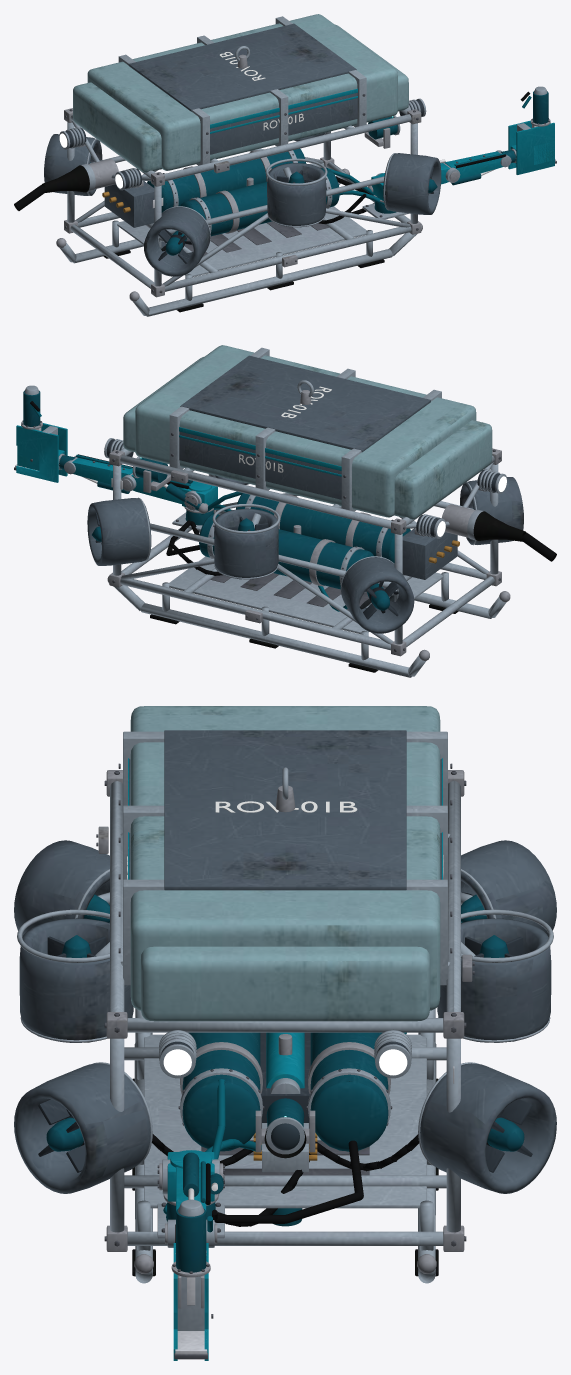
Rendered from rov01b_cutter_lod1.glb.
3 views of the same model, one above another, from view 1: azimuth 30°, elevation 25°; view 2: azimuth 150°, elevation 25°; view 3: azimuth 270°, elevation 25° (orthographic). The views are drawn at different scales.
Visible parts, largest first — view 1: cutter_frame__foam, cutter_frame__slate_lt, cutter_frame__alu, cutter_thrusters__slate_lt, cutter_frame__alu.001, cutter_frame__cyan_dk, cutter_shear_head__cyan, cutter_detail__slate_lt, cutter_frame__steel_dk, cutter_frame__steel, cutter_frame__cyan, cutter_tether__rubber (+12 smaller); view 2: cutter_frame__foam, cutter_frame__slate_lt, cutter_frame__alu, cutter_thrusters__slate_lt, cutter_frame__alu.001, cutter_frame__cyan_dk, cutter_shear_head__cyan, cutter_detail__slate_lt, cutter_frame__steel_dk, cutter_frame__steel, cutter_frame__cyan, cutter_tether__rubber (+14 smaller); view 3: cutter_frame__foam, cutter_thrusters__slate_lt, cutter_frame__slate_lt, cutter_frame__alu, cutter_frame__alu.001, cutter_frame__cyan_dk, cutter_thrusters__cyan_dk, cutter_frame__steel, cutter_thrusters__slate, cutter_detail__alu.001, cutter_frame__steel_dk, cutter_thrusters__alu (+14 smaller).
Boxes of the visible parts, box(x1,y1,x2,y2) form: cutter_frame__foam: box(73, 14, 408, 172); cutter_frame__slate_lt: box(128, 23, 357, 154); cutter_frame__alu: box(60, 46, 417, 316); cutter_thrusters__slate_lt: box(44, 132, 441, 276); cutter_frame__alu.001: box(117, 16, 366, 277); cutter_frame__cyan_dk: box(147, 148, 339, 237); cutter_shear_head__cyan: box(508, 120, 554, 174); cutter_detail__slate_lt: box(104, 171, 154, 227); cutter_frame__steel_dk: box(65, 94, 418, 293); cutter_frame__steel: box(56, 108, 422, 301); cutter_frame__cyan: box(210, 88, 357, 133); cutter_tether__rubber: box(41, 165, 89, 192); cutter_frame__foam: box(123, 345, 492, 519); cutter_frame__slate_lt: box(179, 355, 430, 499); cutter_frame__alu: box(113, 380, 506, 677); cutter_thrusters__slate_lt: box(87, 475, 523, 633); cutter_frame__alu.001: box(169, 347, 443, 634); cutter_frame__cyan_dk: box(199, 493, 410, 591); cutter_shear_head__cyan: box(16, 423, 67, 482); cutter_detail__slate_lt: box(402, 517, 457, 579); cutter_frame__steel_dk: box(112, 433, 500, 651); cutter_frame__steel: box(107, 448, 510, 660); cutter_frame__cyan: box(179, 427, 341, 476); cutter_tether__rubber: box(473, 511, 526, 541); cutter_frame__foam: box(130, 706, 440, 1021); cutter_thrusters__slate_lt: box(14, 840, 556, 1193); cutter_frame__slate_lt: box(129, 730, 441, 890); cutter_frame__alu: box(110, 767, 460, 1283); cutter_frame__alu.001: box(123, 731, 447, 1208); cutter_frame__cyan_dk: box(182, 1032, 388, 1151); cutter_thrusters__cyan_dk: box(46, 894, 524, 1151); cutter_frame__steel: box(106, 770, 464, 1273); cutter_thrusters__slate: box(38, 936, 532, 1172); cutter_detail__alu.001: box(17, 909, 553, 962); cutter_frame__steel_dk: box(104, 763, 466, 1246); cutter_thrusters__alu: box(20, 869, 550, 1166).
Size of the model in its own units: 3.4 by 1.35 by 1.61.
Materials: 19 (15 with a texture image).
